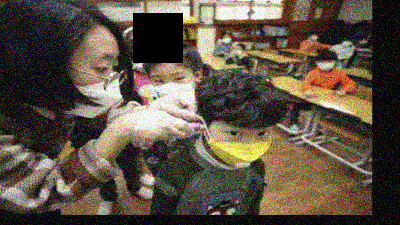with_mask: (67, 49, 123, 119), (203, 117, 273, 168), (148, 66, 196, 99), (130, 50, 148, 73), (316, 56, 337, 73), (342, 38, 353, 48), (222, 35, 231, 44), (311, 34, 319, 41)
